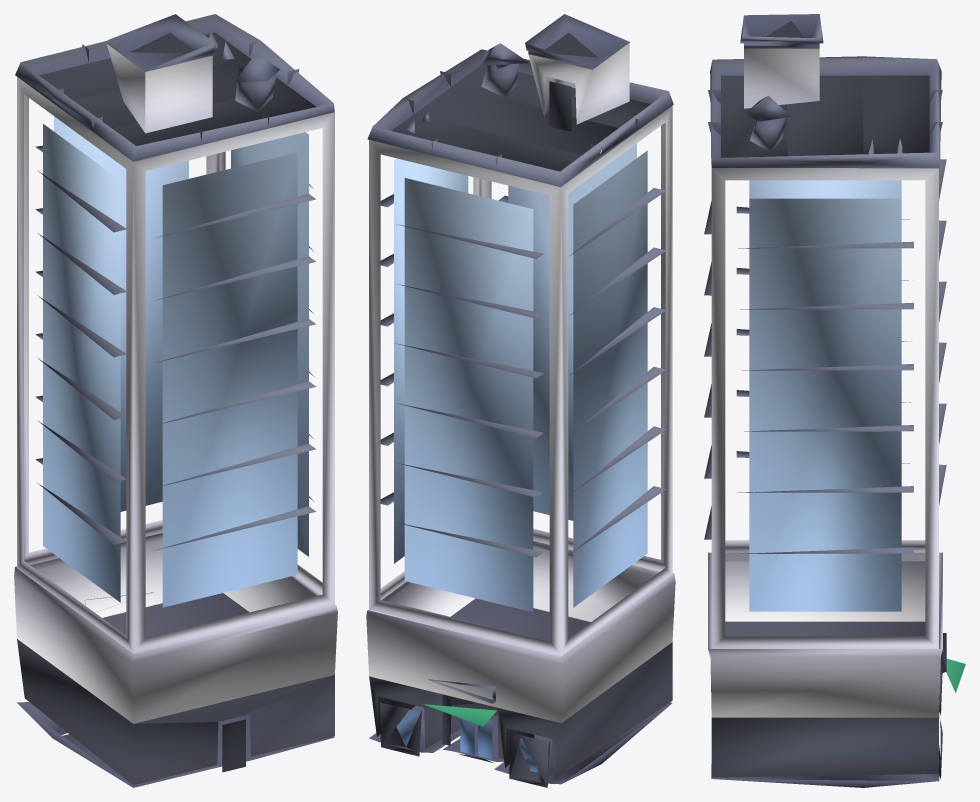
The model's file is tower-sky-c-low.glb.
3 renders of one model, left to right at view 1: azimuth 30°, elevation 25°; view 2: azimuth 150°, elevation 25°; view 3: azimuth 270°, elevation 25°, orthographic. The views are drawn at different scales.
Visible parts, largest first — view 1: building-skyscraper-c baked; view 2: building-skyscraper-c baked; view 3: building-skyscraper-c baked.
Part boxes in pixels (bbox=[...]): building-skyscraper-c baked: bbox=[14, 14, 337, 787]; building-skyscraper-c baked: bbox=[366, 14, 675, 787]; building-skyscraper-c baked: bbox=[704, 14, 965, 787].
Bounding box in the file's own units: 8.8 × 28 × 9.49.
1 material, 1 textured.
